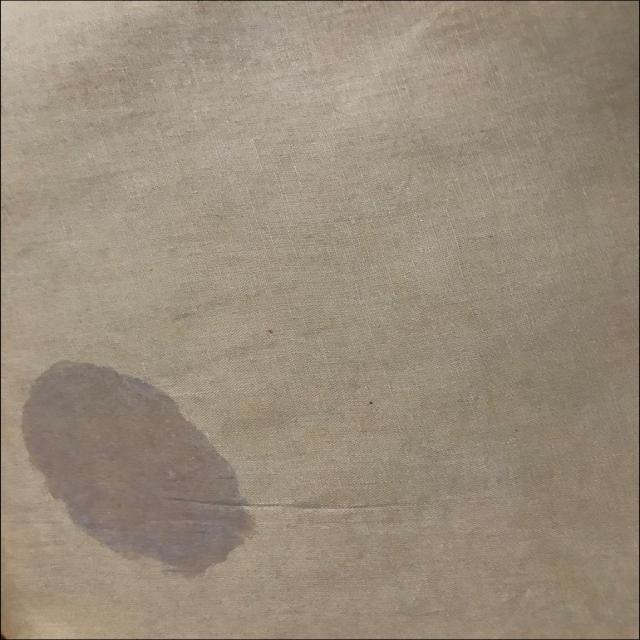Stain: (22, 363, 249, 576)
